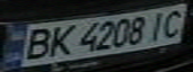0: (112, 16, 136, 48)
2: (97, 17, 118, 52)
4: (75, 20, 100, 53)
8: (127, 12, 154, 46)
B: (15, 26, 57, 62)
C: (154, 6, 193, 38)
I: (142, 8, 175, 41)
K: (42, 23, 78, 57)
